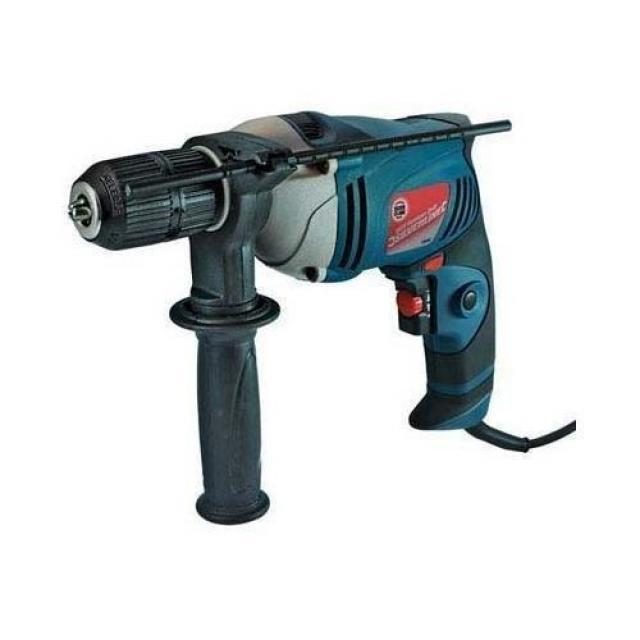drill: (68, 110, 532, 526)
